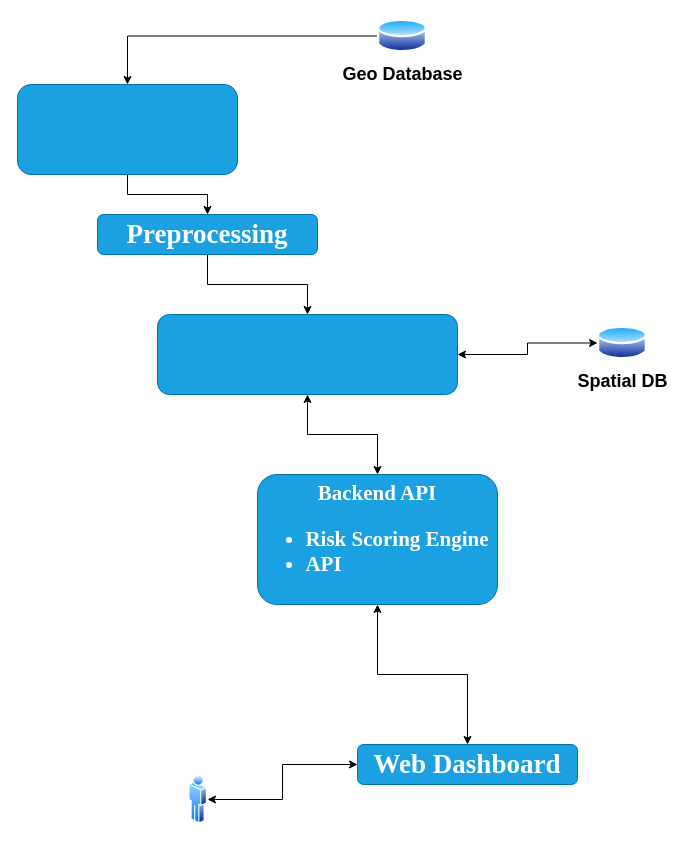
Some shapes in this 685 by 841 pixel diagram are drawn without their labels. The box of each missing label's shape, as (x1, y1, x2, y2) in pixels:
AI Models YOLOv8 (Building detection) Change detection: (156, 314, 458, 394)
Data Sources Setellite Images Landslide maps Rainfall data API: (16, 84, 238, 174)
